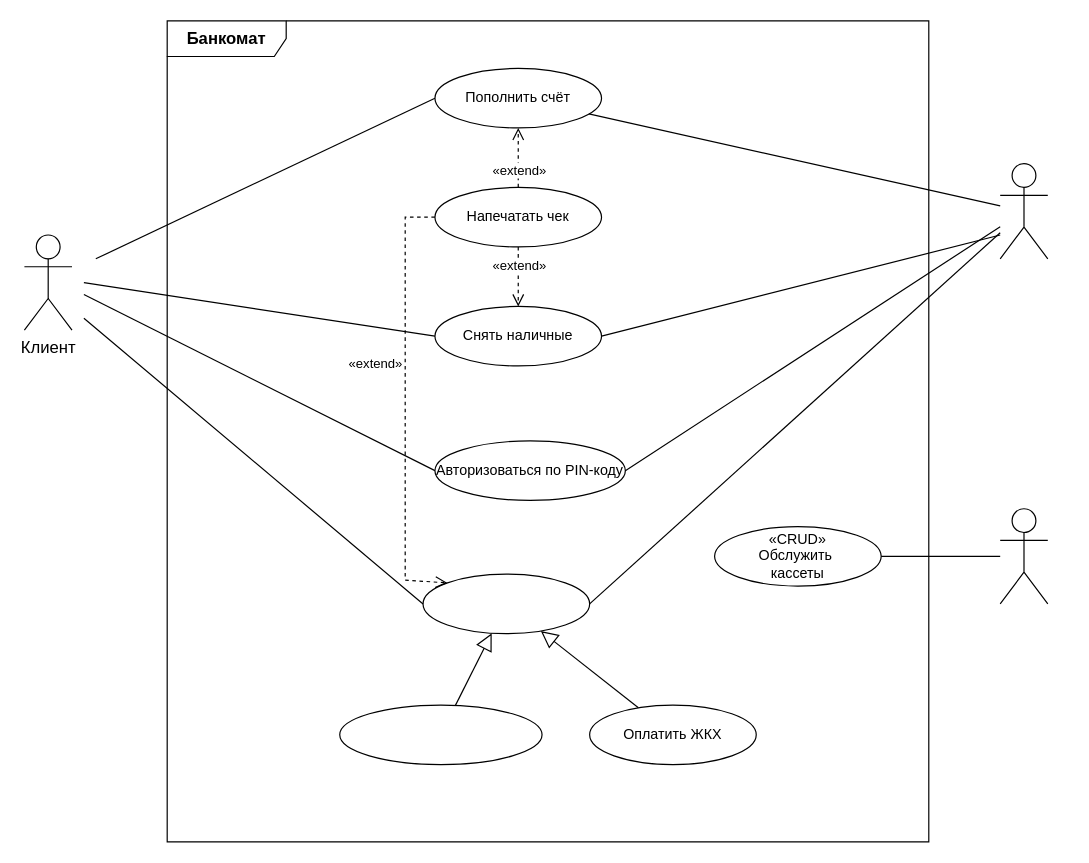
Image size: 1089x863. Some labels were removed from this diagram. Each missing label, with the box of its shape:
Банковская система: (999, 162, 1048, 259)
Инкассатор: (999, 508, 1048, 604)
Оплатить мобильную связь: (339, 704, 542, 765)
Оплатить услуги: (422, 573, 590, 634)
